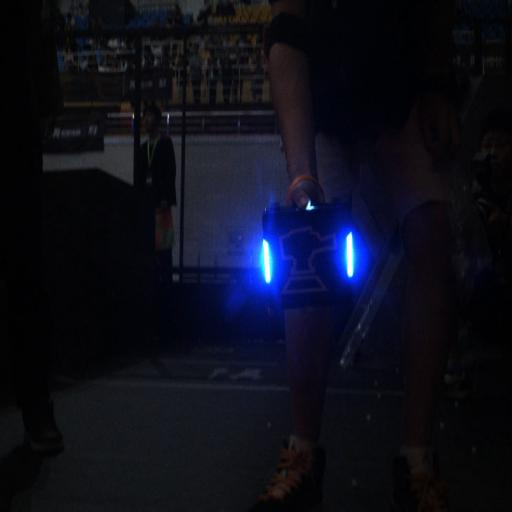target: (258, 209, 362, 308)
